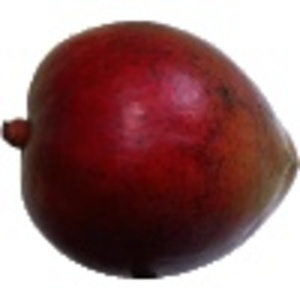manga: (1, 20, 300, 279)
